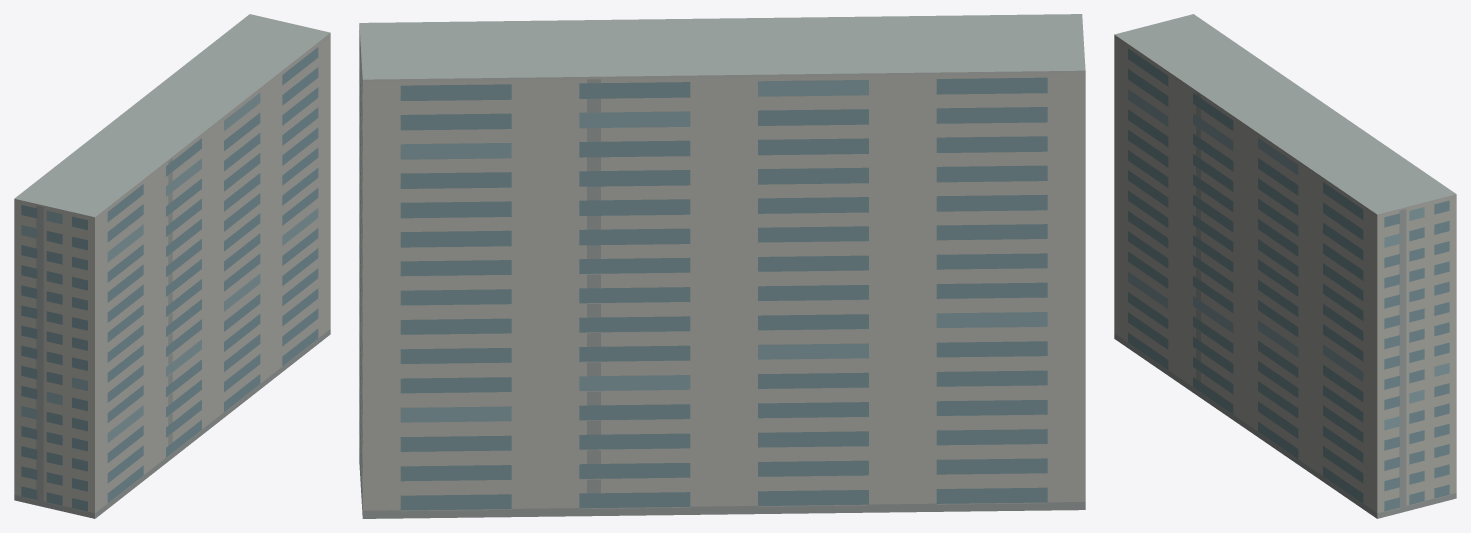
The model's file is residential-a903b2cb-cf15-4f94-9b3d-f30b179e5a4e.glb.
3 renders of one model, left to right at view 1: azimuth 30°, elevation 25°; view 2: azimuth 150°, elevation 25°; view 3: azimuth 270°, elevation 25°, orthographic. The views are drawn at different scales.
Visible parts, largest first — view 1: residential-a903b2cb-cf15-4f94-9b3d-f30b179e5a4e.tmp; view 2: residential-a903b2cb-cf15-4f94-9b3d-f30b179e5a4e.tmp; view 3: residential-a903b2cb-cf15-4f94-9b3d-f30b179e5a4e.tmp.
Part boxes in pixels (x1,y1,x2,y2): residential-a903b2cb-cf15-4f94-9b3d-f30b179e5a4e.tmp: (14, 14, 330, 518); residential-a903b2cb-cf15-4f94-9b3d-f30b179e5a4e.tmp: (359, 14, 1085, 518); residential-a903b2cb-cf15-4f94-9b3d-f30b179e5a4e.tmp: (1114, 14, 1456, 518).
Size of the model in its own units: 59.39 by 42 by 42.82.
